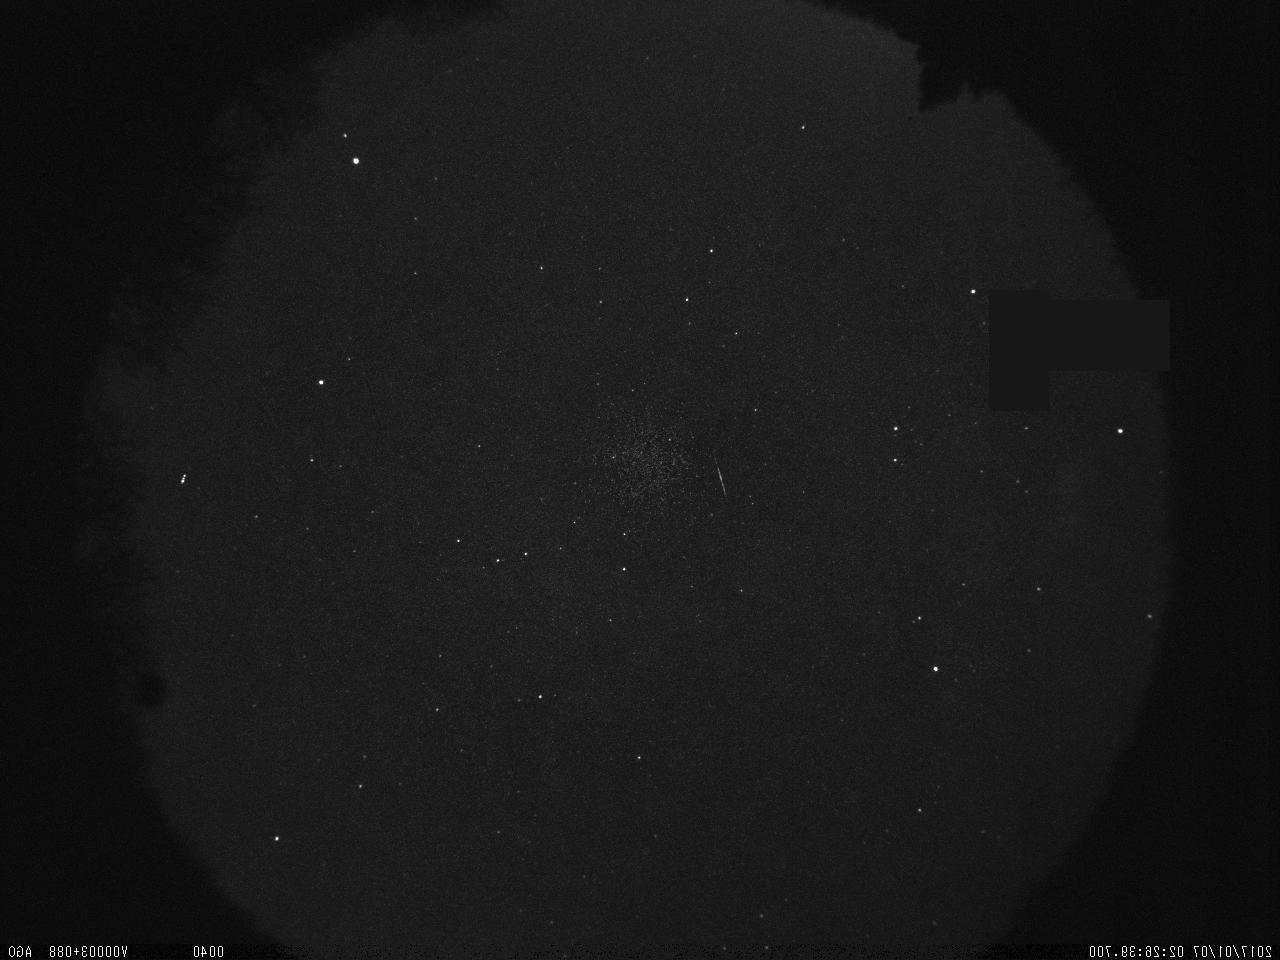meteor: (699, 450, 739, 512)
